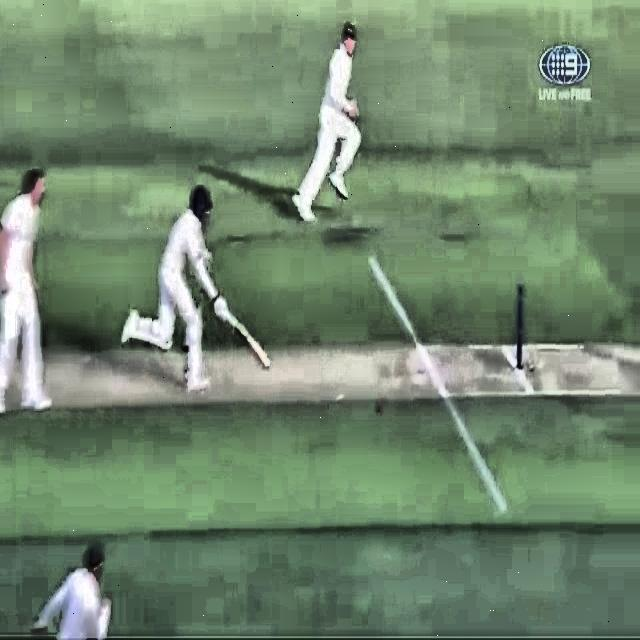Bat: (208, 294, 274, 372)
Pitch_Line: (365, 254, 510, 513)
Undis_Wicket: (513, 283, 528, 372)
